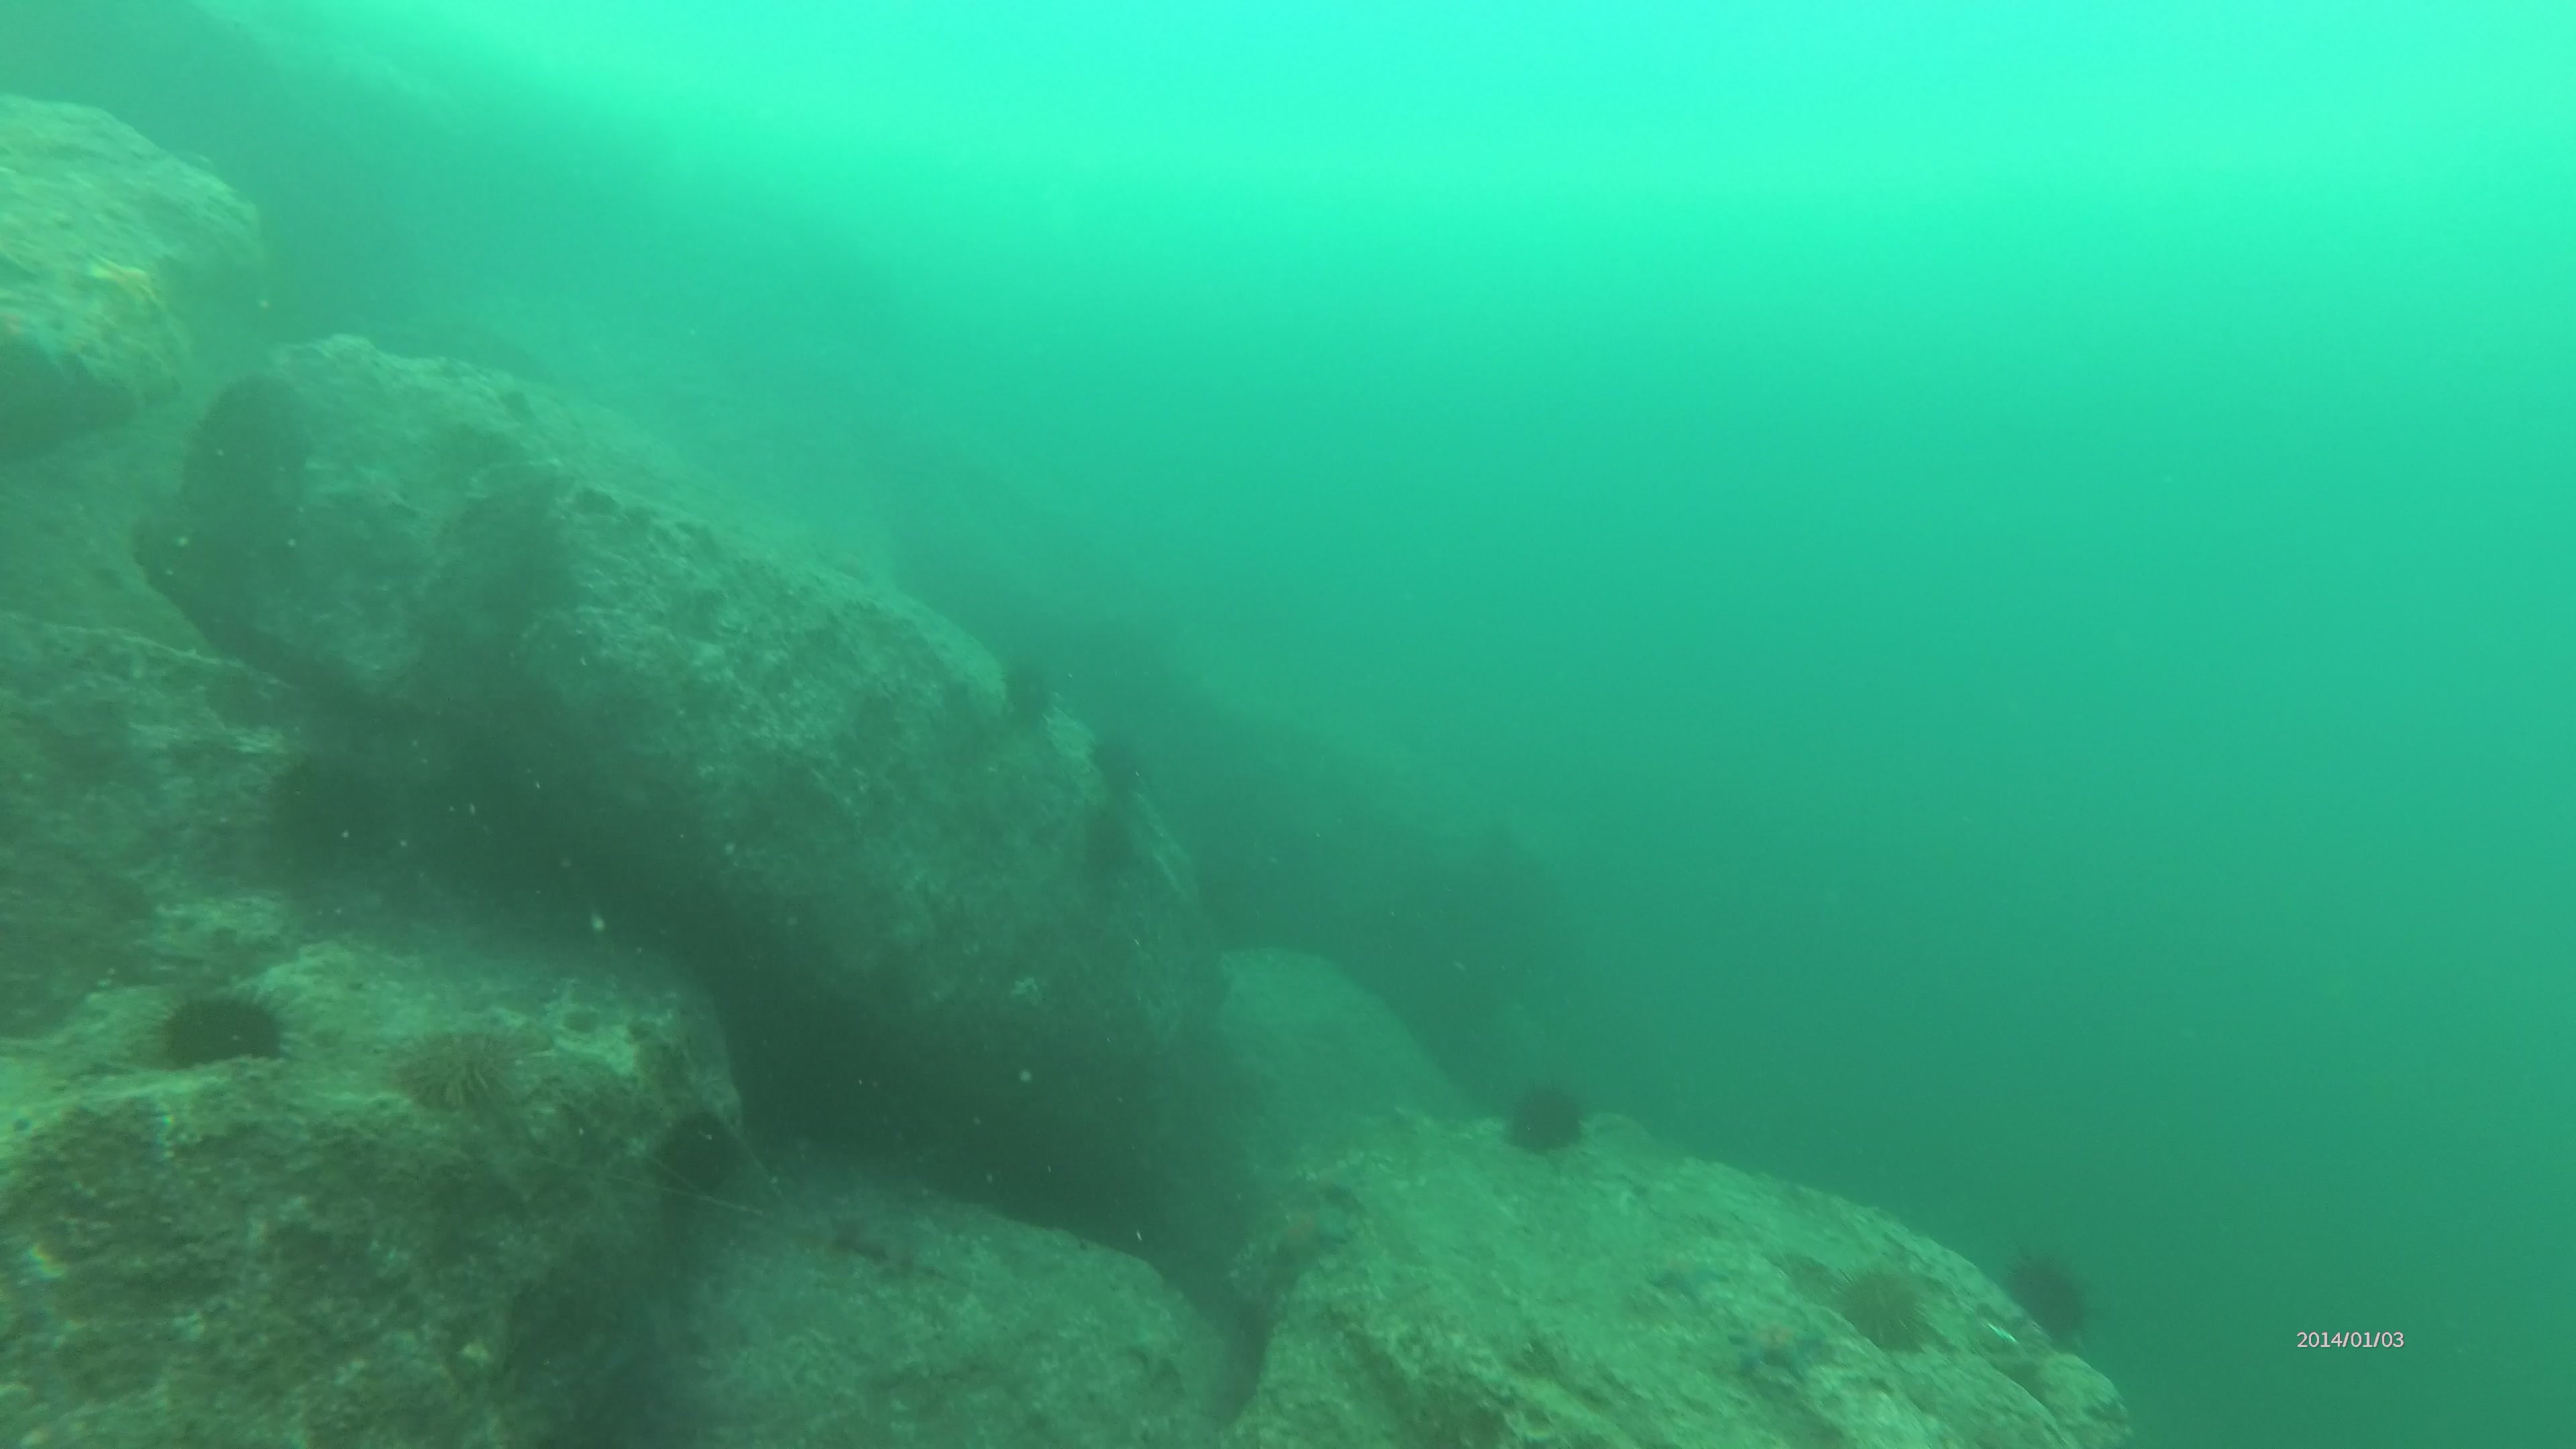echinus: (163, 987, 292, 1072), (1835, 1263, 1937, 1362), (2008, 1249, 2093, 1346), (1516, 1079, 1591, 1155), (1088, 741, 1150, 805), (1000, 663, 1060, 727)
starfish: (81, 251, 175, 331)
